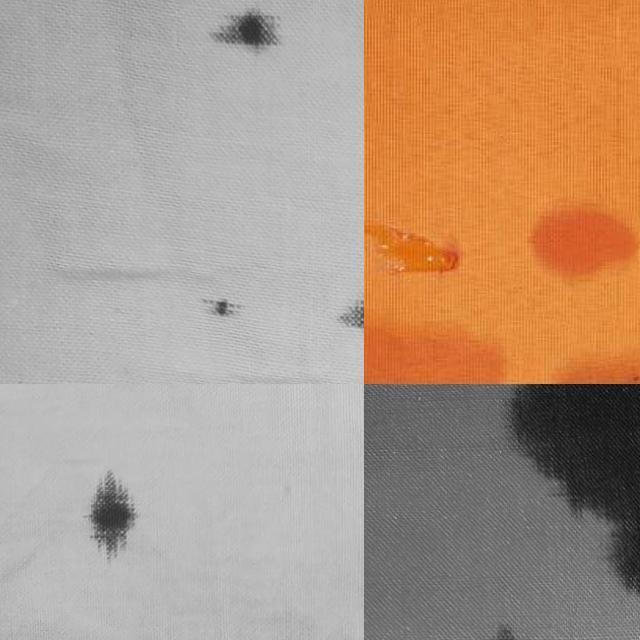Hole: (364, 200, 640, 384), (451, 384, 640, 623), (47, 444, 173, 584), (187, 0, 310, 85), (184, 264, 256, 338), (313, 262, 364, 361), (449, 598, 553, 640)
